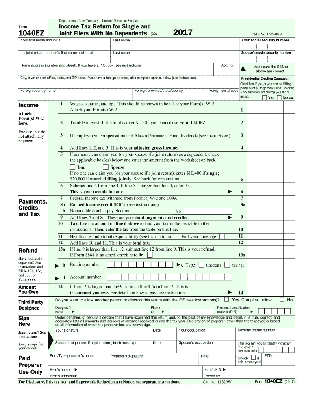checkbox: (217, 232, 225, 240), (197, 261, 205, 269), (278, 295, 286, 303), (275, 94, 283, 102), (68, 163, 76, 170), (146, 251, 154, 258), (223, 260, 230, 268), (222, 296, 230, 303), (260, 94, 268, 101), (102, 163, 109, 170), (250, 353, 256, 360)
textbox: (14, 74, 240, 89), (14, 61, 214, 77), (108, 49, 240, 65), (109, 37, 241, 52), (15, 87, 134, 102), (54, 325, 152, 341), (243, 148, 285, 183), (54, 338, 152, 353), (15, 49, 112, 64), (46, 364, 203, 373), (47, 370, 204, 379), (105, 352, 200, 366), (17, 37, 110, 51), (243, 257, 284, 286), (131, 87, 208, 101), (105, 273, 234, 281), (175, 325, 237, 341), (234, 325, 296, 341), (237, 36, 295, 51), (238, 49, 296, 64), (175, 338, 237, 352), (46, 352, 108, 366), (200, 370, 296, 379), (201, 363, 296, 372), (244, 111, 285, 128), (243, 100, 285, 116), (243, 124, 285, 140), (243, 136, 285, 152), (243, 181, 285, 197), (244, 244, 285, 260), (242, 282, 284, 297), (197, 351, 237, 366), (260, 351, 297, 367), (78, 307, 149, 315), (244, 207, 284, 221), (245, 219, 284, 233), (105, 260, 173, 268), (282, 149, 297, 185), (206, 87, 240, 102), (282, 256, 299, 286), (149, 325, 178, 341), (212, 61, 240, 77), (150, 337, 178, 353), (180, 205, 223, 215), (244, 199, 285, 209), (243, 237, 284, 247), (166, 307, 215, 315), (243, 194, 284, 203), (244, 231, 284, 240), (256, 306, 292, 315), (256, 345, 296, 353), (282, 243, 298, 260), (282, 282, 300, 297), (283, 137, 297, 153), (283, 206, 297, 222), (282, 217, 296, 233), (282, 111, 296, 126), (282, 124, 296, 139), (283, 181, 297, 196), (282, 99, 295, 114), (219, 206, 234, 216), (284, 199, 298, 209), (283, 194, 297, 203), (283, 231, 297, 240), (282, 238, 295, 247)
